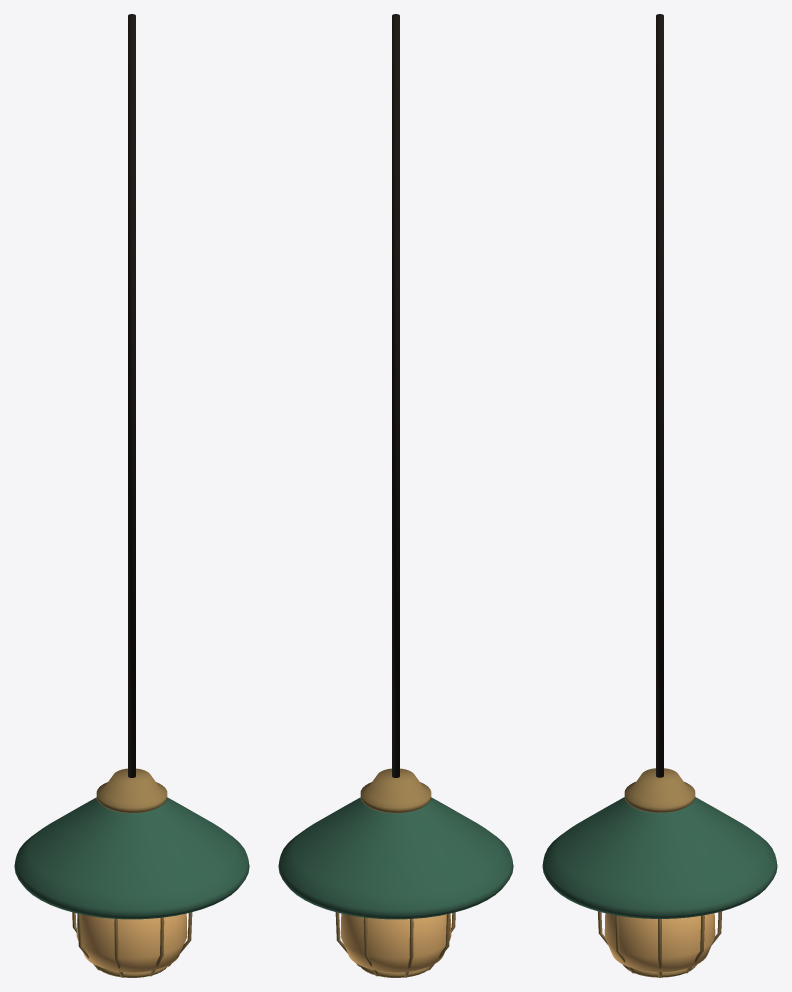
File: CellarLamp.fbx
The picture shows the model from 3 angles, left to right: view 1: azimuth 30°, elevation 25°; view 2: azimuth 150°, elevation 25°; view 3: azimuth 270°, elevation 25°; orthographic projection.
Visible parts, largest first — view 1: rolled enamel reflector, dusty cable, Opaline globe, brass collar; view 2: rolled enamel reflector, dusty cable, Opaline globe, brass collar; view 3: rolled enamel reflector, dusty cable, Opaline globe, brass collar.
Part boxes in pixels (x1,y1,x2,y2): rolled enamel reflector: (14,797,249,919); dusty cable: (128,14,135,777); Opaline globe: (76,913,187,973); brass collar: (96,768,167,813); rolled enamel reflector: (278,797,513,919); dusty cable: (392,14,399,777); Opaline globe: (340,913,451,973); brass collar: (360,768,431,813); rolled enamel reflector: (542,797,777,918); dusty cable: (656,14,663,777); Opaline globe: (604,913,715,972); brass collar: (624,768,695,812).
Size of the model in its own units: 51 by 227 by 51.
